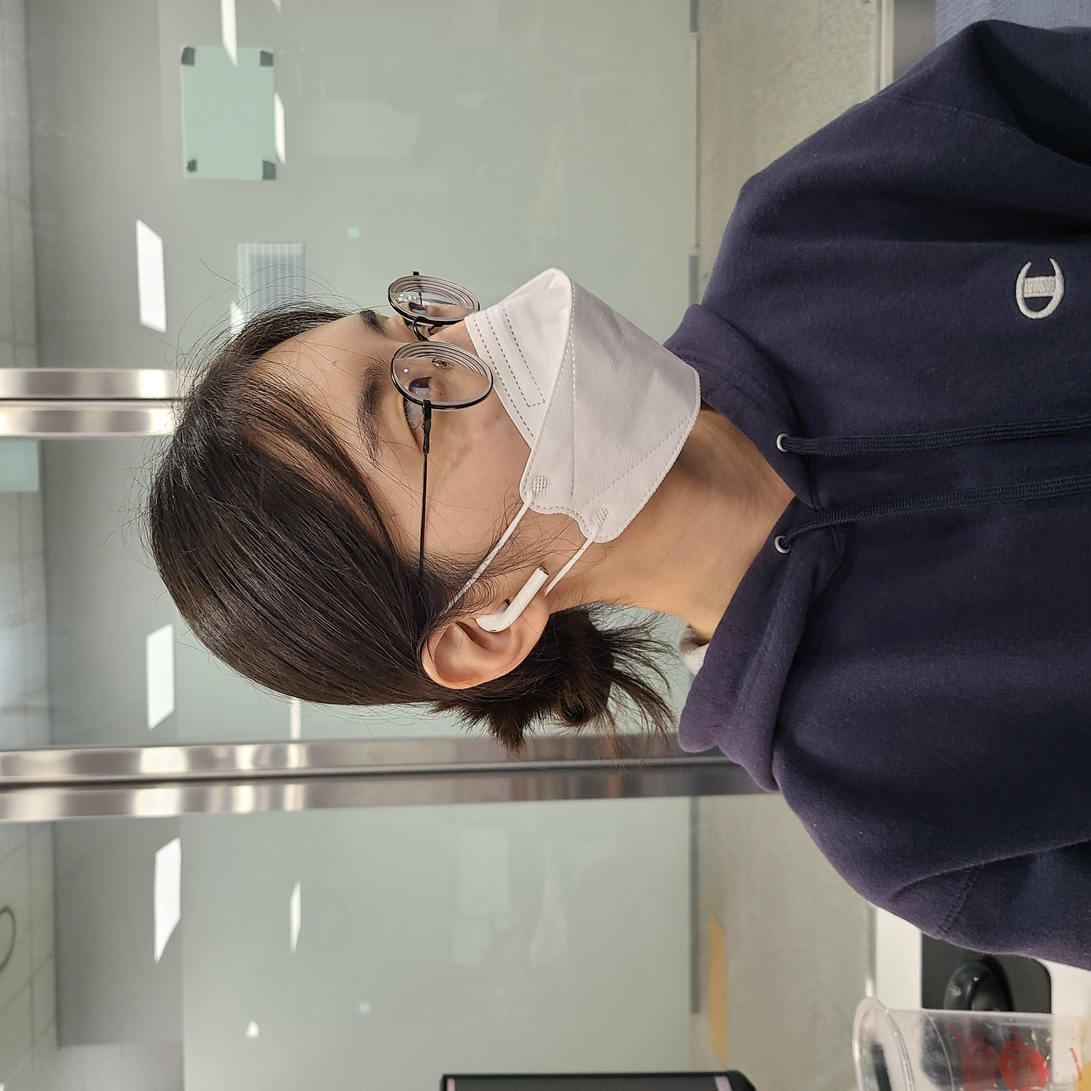earphone: (446, 469, 534, 564)
